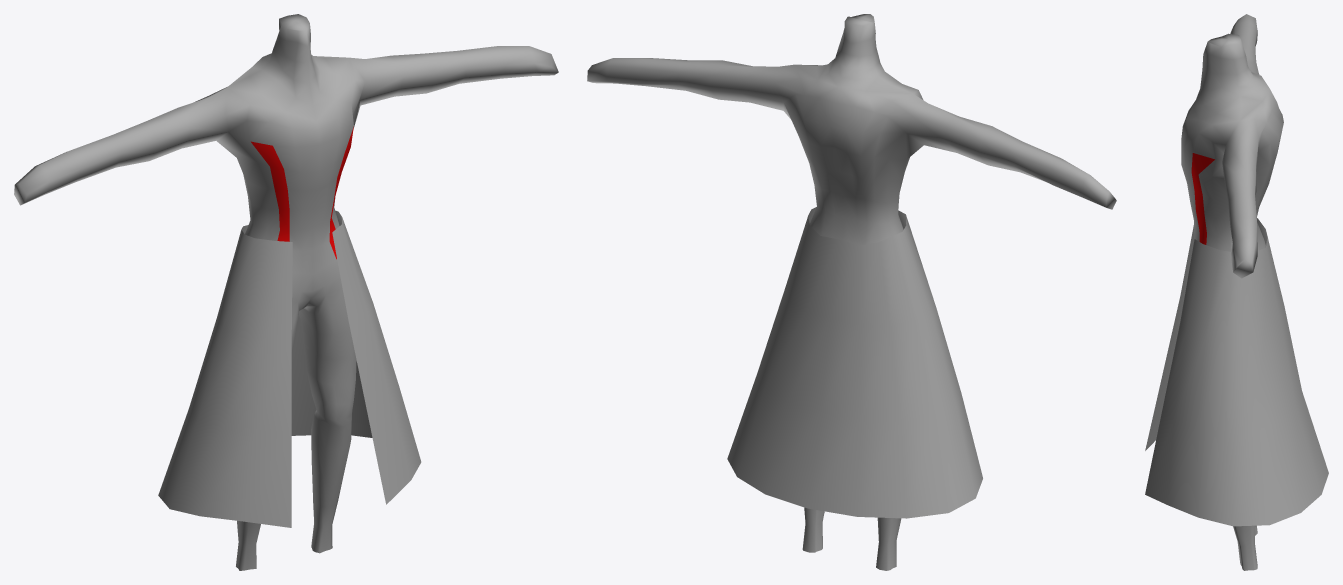
File: Human.fbx
The picture shows the model from 3 angles, left to right: view 1: azimuth 30°, elevation 25°; view 2: azimuth 150°, elevation 25°; view 3: azimuth 270°, elevation 25°; orthographic projection. The views are drawn at different scales.
Parts seen in each view (by area): view 1: Body8, pCone1; view 2: pCone1, Body8; view 3: pCone1, Body8.
Boxes of the visible parts, bbox=[...] form: Body8: bbox=[14, 14, 558, 570]; pCone1: bbox=[158, 210, 421, 527]; pCone1: bbox=[727, 207, 982, 518]; Body8: bbox=[587, 14, 1116, 570]; pCone1: bbox=[1145, 218, 1328, 526]; Body8: bbox=[1181, 14, 1283, 570].
Bounding box in the file's own units: 169 × 165 × 53.8.
